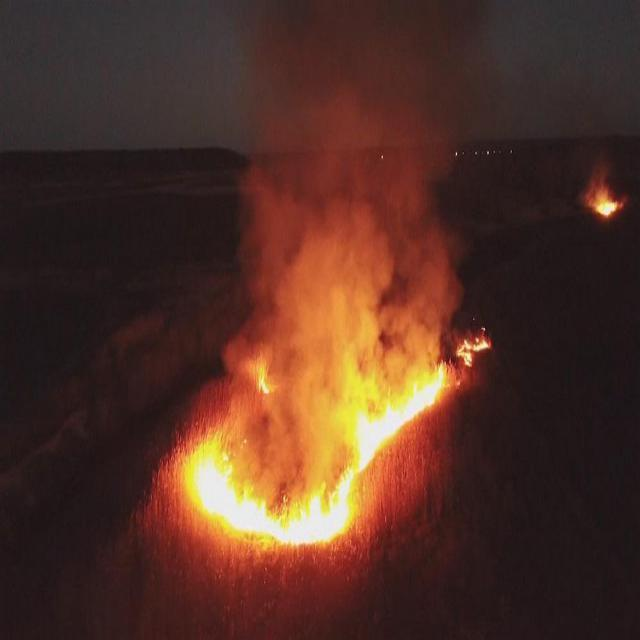Fire: (184, 446, 352, 538), (356, 367, 444, 475), (458, 339, 488, 372), (598, 198, 617, 216), (256, 376, 270, 393)
